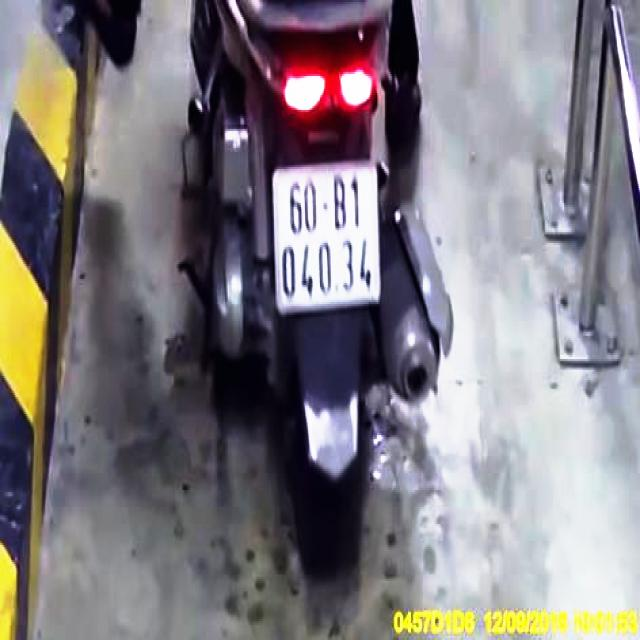license_plate: (274, 165, 384, 317)
